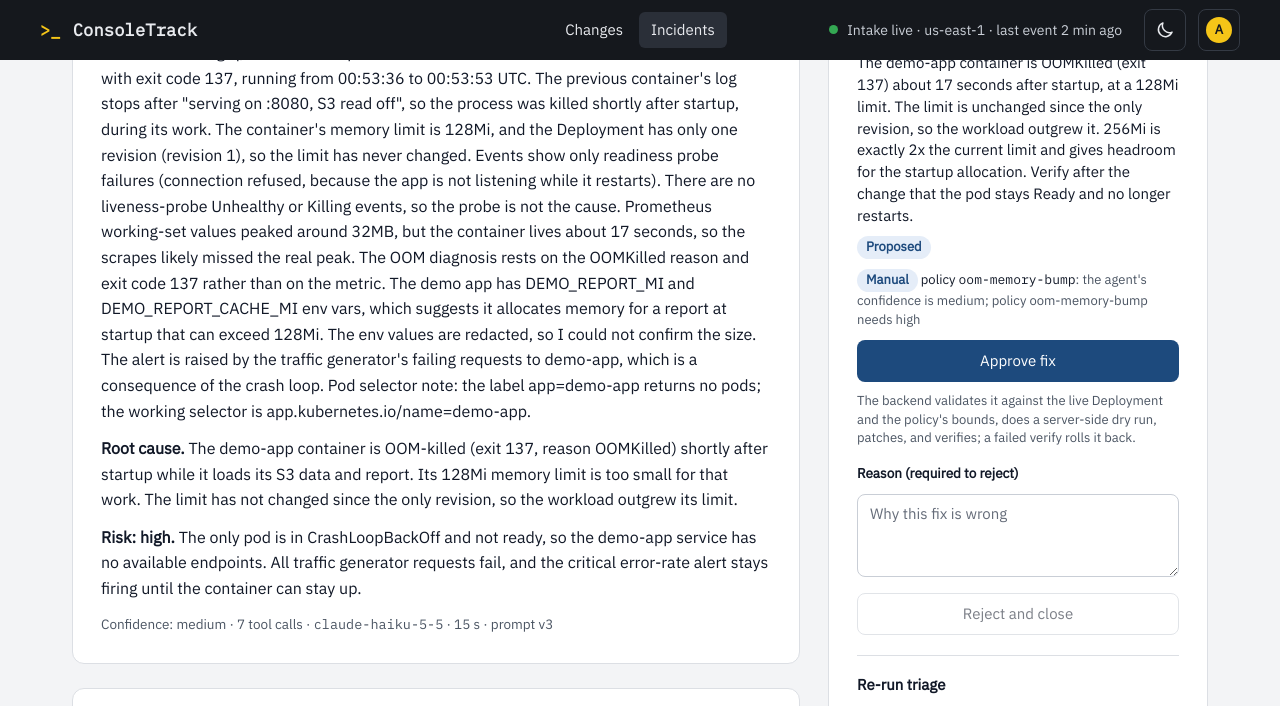
Test: incident detail › shows the conflict and reloads when someone else decided first
(page scrolled)
Click the button "Approve fix".
click(1018, 361)  # box x1=857 y1=340 x2=1179 y2=382
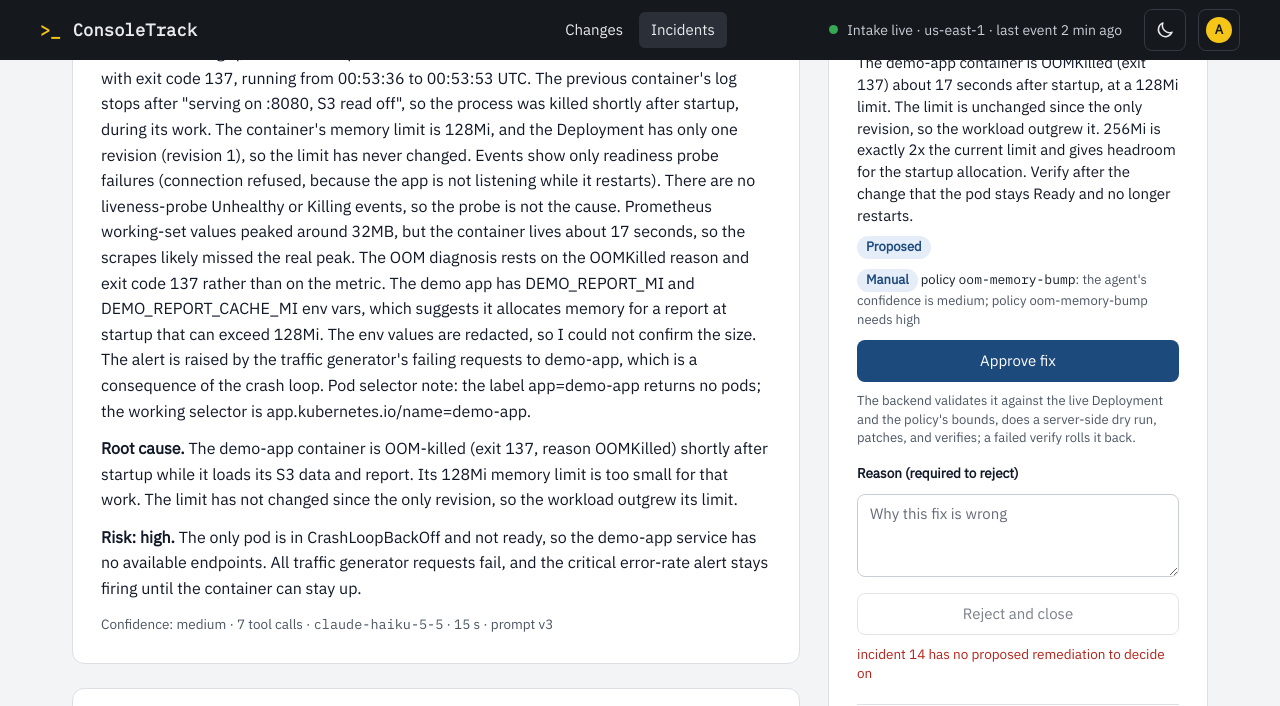
expect the message reads "incident 14 has no proposed remediation to decide on": met, box x1=857 y1=645 x2=1165 y2=682
